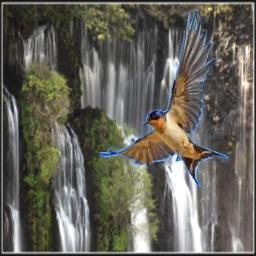Swallow: (99, 9, 229, 187)
